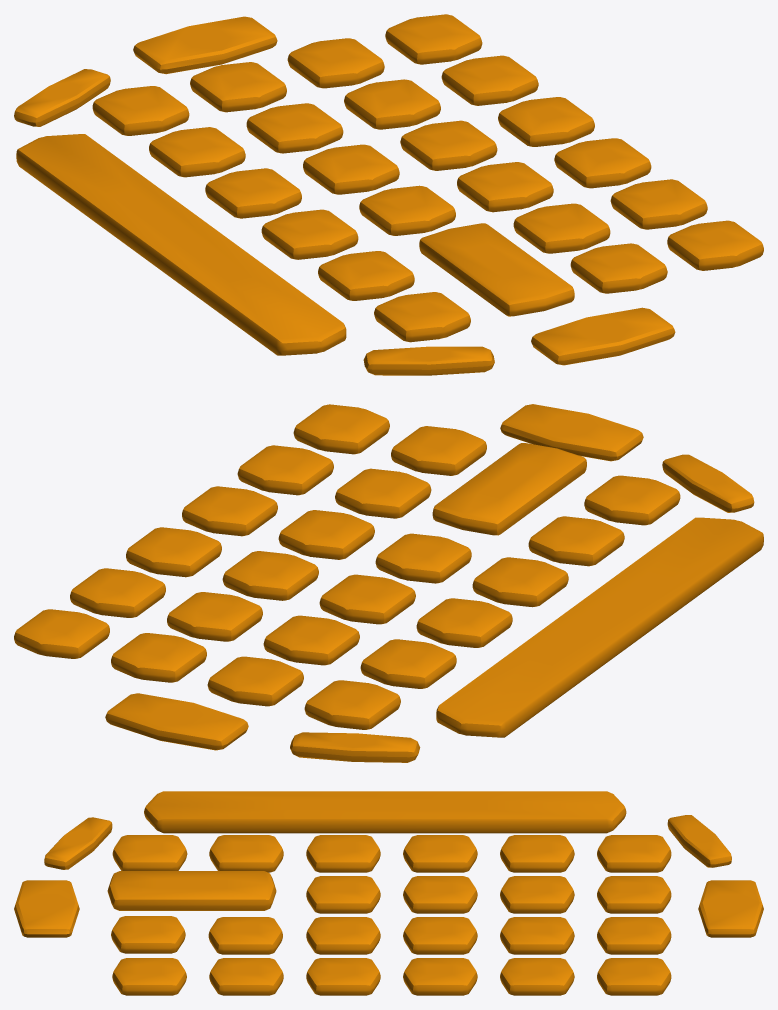
Rendered from keyboard_keys_low.fbx.
3 renders of one model, top to bottom at view 1: azimuth 30°, elevation 25°; view 2: azimuth 150°, elevation 25°; view 3: azimuth 270°, elevation 25°, orthographic. The views are drawn at different scales.
Visible parts, largest first — view 1: keys_low; view 2: keys_low; view 3: keys_low.
Part boxes in pixels (x1,y1,x2,y2): keys_low: [14, 14, 763, 375]; keys_low: [14, 404, 763, 762]; keys_low: [14, 791, 763, 995].
Size of the model in its own units: 342 by 17.79 by 554.
